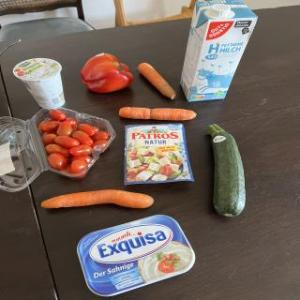bell_pepper: (79, 49, 130, 92)
carrot: (39, 186, 166, 216), (117, 99, 205, 125), (136, 57, 182, 101)
tomato: (29, 105, 113, 176)
zucchini: (207, 122, 251, 222)
